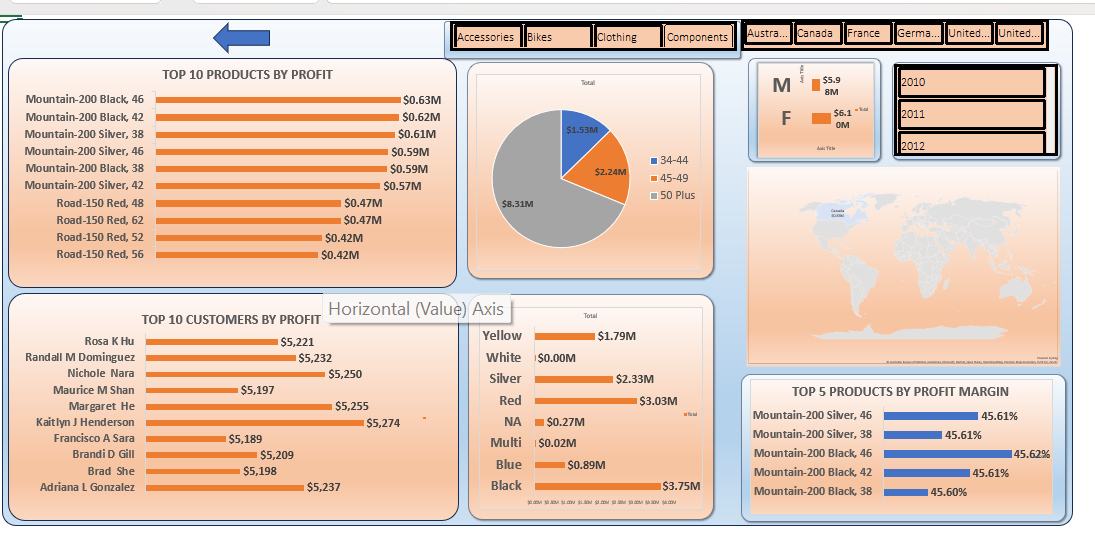

This screenshot's page, from the dashboard's own definition file:
{"tool":"powerbi","page":{"name":"Page 1","canvas":[1280,720],"ordinal":0},"visuals":[{"type":"clusteredBarChart","fields":{"Y":["UNION SALES.Total Sales"],"Category":["UNION SALES.OrderDate.Variation.Date Hierarchy.Year"]},"box":[0,204.5,296.4,236],"z":0},{"type":"lineChart","fields":{"Y":["UNION SALES.Total Sales"],"Category":["UNION SALES.OrderDate.Variation.Date Hierarchy.Month"]},"box":[660,204.5,418.5,236],"z":1},{"type":"pieChart","fields":{"Y":["UNION SALES.Total Sales"],"Category":["UNION SALES.Quarter"]},"box":[1.2,440.4,309.7,279.9],"z":2},{"type":"lineClusteredColumnComboChart","fields":{"Y":["UNION SALES.Total Sales"],"Category":["UNION SALES.OrderDate.Variation.Date Hierarchy.Year"],"Y2":["Sum(UNION SALES.TotalProductCost)"]},"box":[311,440.4,373.2,279.9],"z":3},{"type":"columnChart","fields":{"Category":["UNION SALES.Product Name"],"Y":["UNION SALES.Total Sales"]},"box":[296.4,204.5,363.6,236],"z":4},{"type":"barChart","fields":{"Y":["UNION SALES.Total Sales"],"Category":["Dimcustomer.Customer Full Name"]},"box":[684.2,440.4,394.3,279.9],"z":5},{"type":"cardVisual","fields":{"Data":["UNION SALES.Total Customers"]},"box":[197.6,97.4,197.6,107],"z":9},{"type":"cardVisual","fields":{"Data":["UNION SALES.Total Order"]},"box":[419.9,97.4,185.2,107],"z":10},{"type":"cardVisual","fields":{"Data":["UNION SALES.Total Quantity"]},"box":[625.7,97.4,182.5,107],"z":11},{"type":"cardVisual","fields":{"Data":["UNION SALES.Total Product"]},"box":[832.9,97.4,186.6,107],"z":12},{"type":"slicer","fields":{"Values":["DimSalesTerritory.SalesTerritoryRegion"]},"box":[1078.5,394.3,201.5,154.3],"z":13},{"type":"cardVisual","fields":{"Data":["UNION SALES.Total Sales"]},"box":[1.4,97.4,179.8,107],"z":14},{"type":"textbox","box":[1.4,0,1062.1,78.2],"z":15},{"type":"listSlicer","fields":{"Values":["UNION SALES.OrderDate.Variation.Date Hierarchy.Year"]},"box":[1078.5,204,201.5,190.3],"z":16},{"type":"image","box":[1078.6,11,189.4,193.5],"z":17},{"type":"listSlicer","fields":{"Values":["UNION SALES.Product Name"]},"box":[1079,548,201,172],"z":18}]}

Visuals, with their boxes on the page's 1280x720 design canvas (x1, y1, x2, y2). These are canvas units, not pixel positions in the 1095x543 screenshot, which may show the page scaled, cropped or inside an application window:
clusteredBarChart - UNION SALES.Total Sales x UNION SALES.OrderDate.Variation.Date Hierarchy.Year: {"left": 0, "top": 204, "right": 296, "bottom": 440}
lineChart - UNION SALES.Total Sales x UNION SALES.OrderDate.Variation.Date Hierarchy.Month: {"left": 660, "top": 204, "right": 1078, "bottom": 440}
pieChart - UNION SALES.Total Sales x UNION SALES.Quarter: {"left": 1, "top": 440, "right": 311, "bottom": 720}
lineClusteredColumnComboChart - UNION SALES.Total Sales x UNION SALES.OrderDate.Variation.Date Hierarchy.Year: {"left": 311, "top": 440, "right": 684, "bottom": 720}
columnChart - UNION SALES.Product Name x UNION SALES.Total Sales: {"left": 296, "top": 204, "right": 660, "bottom": 440}
barChart - UNION SALES.Total Sales x Dimcustomer.Customer Full Name: {"left": 684, "top": 440, "right": 1078, "bottom": 720}
cardVisual - UNION SALES.Total Customers: {"left": 198, "top": 97, "right": 395, "bottom": 204}
cardVisual - UNION SALES.Total Order: {"left": 420, "top": 97, "right": 605, "bottom": 204}
cardVisual - UNION SALES.Total Quantity: {"left": 626, "top": 97, "right": 808, "bottom": 204}
cardVisual - UNION SALES.Total Product: {"left": 833, "top": 97, "right": 1020, "bottom": 204}
slicer - DimSalesTerritory.SalesTerritoryRegion: {"left": 1078, "top": 394, "right": 1280, "bottom": 549}
cardVisual - UNION SALES.Total Sales: {"left": 1, "top": 97, "right": 181, "bottom": 204}
textbox: {"left": 1, "top": 0, "right": 1064, "bottom": 78}
listSlicer - UNION SALES.OrderDate.Variation.Date Hierarchy.Year: {"left": 1078, "top": 204, "right": 1280, "bottom": 394}
image: {"left": 1079, "top": 11, "right": 1268, "bottom": 204}
listSlicer - UNION SALES.Product Name: {"left": 1079, "top": 548, "right": 1280, "bottom": 720}
